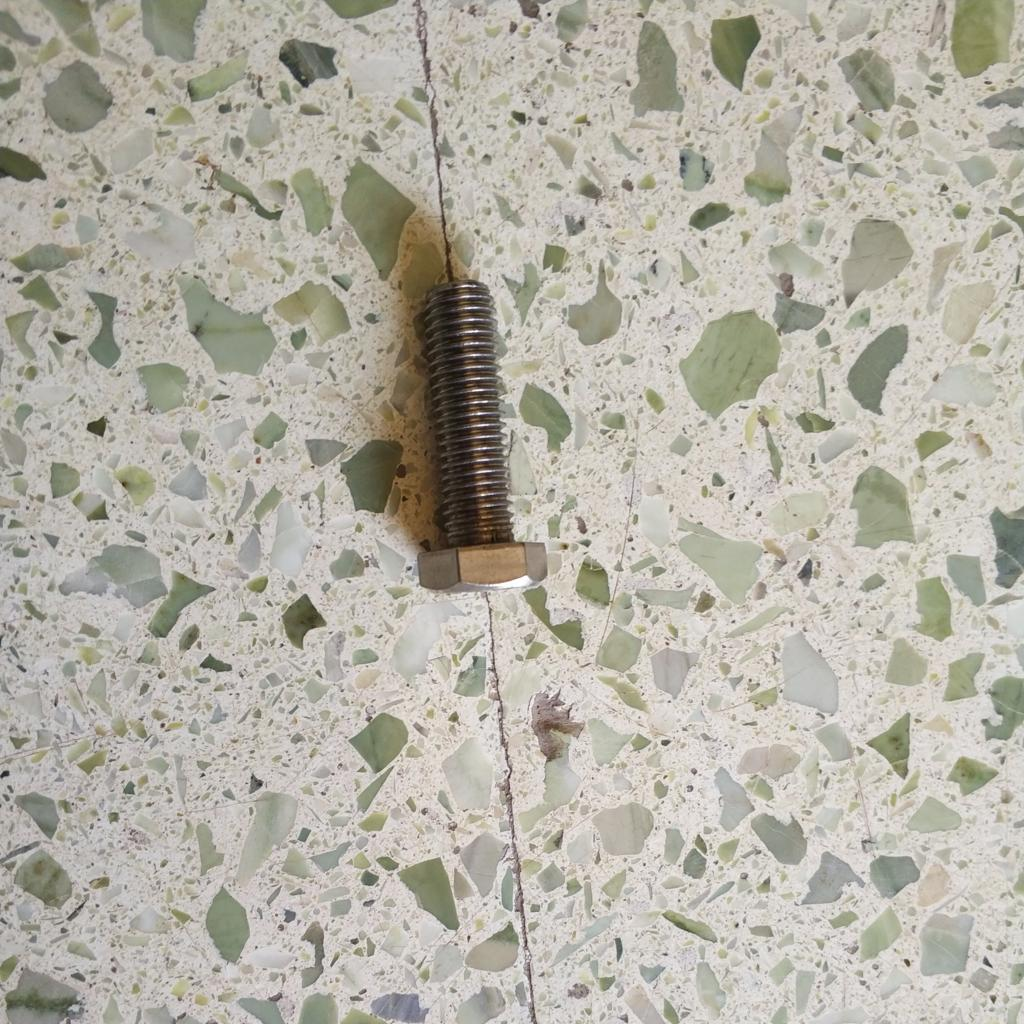screwtype2silver: (409, 273, 555, 595)
